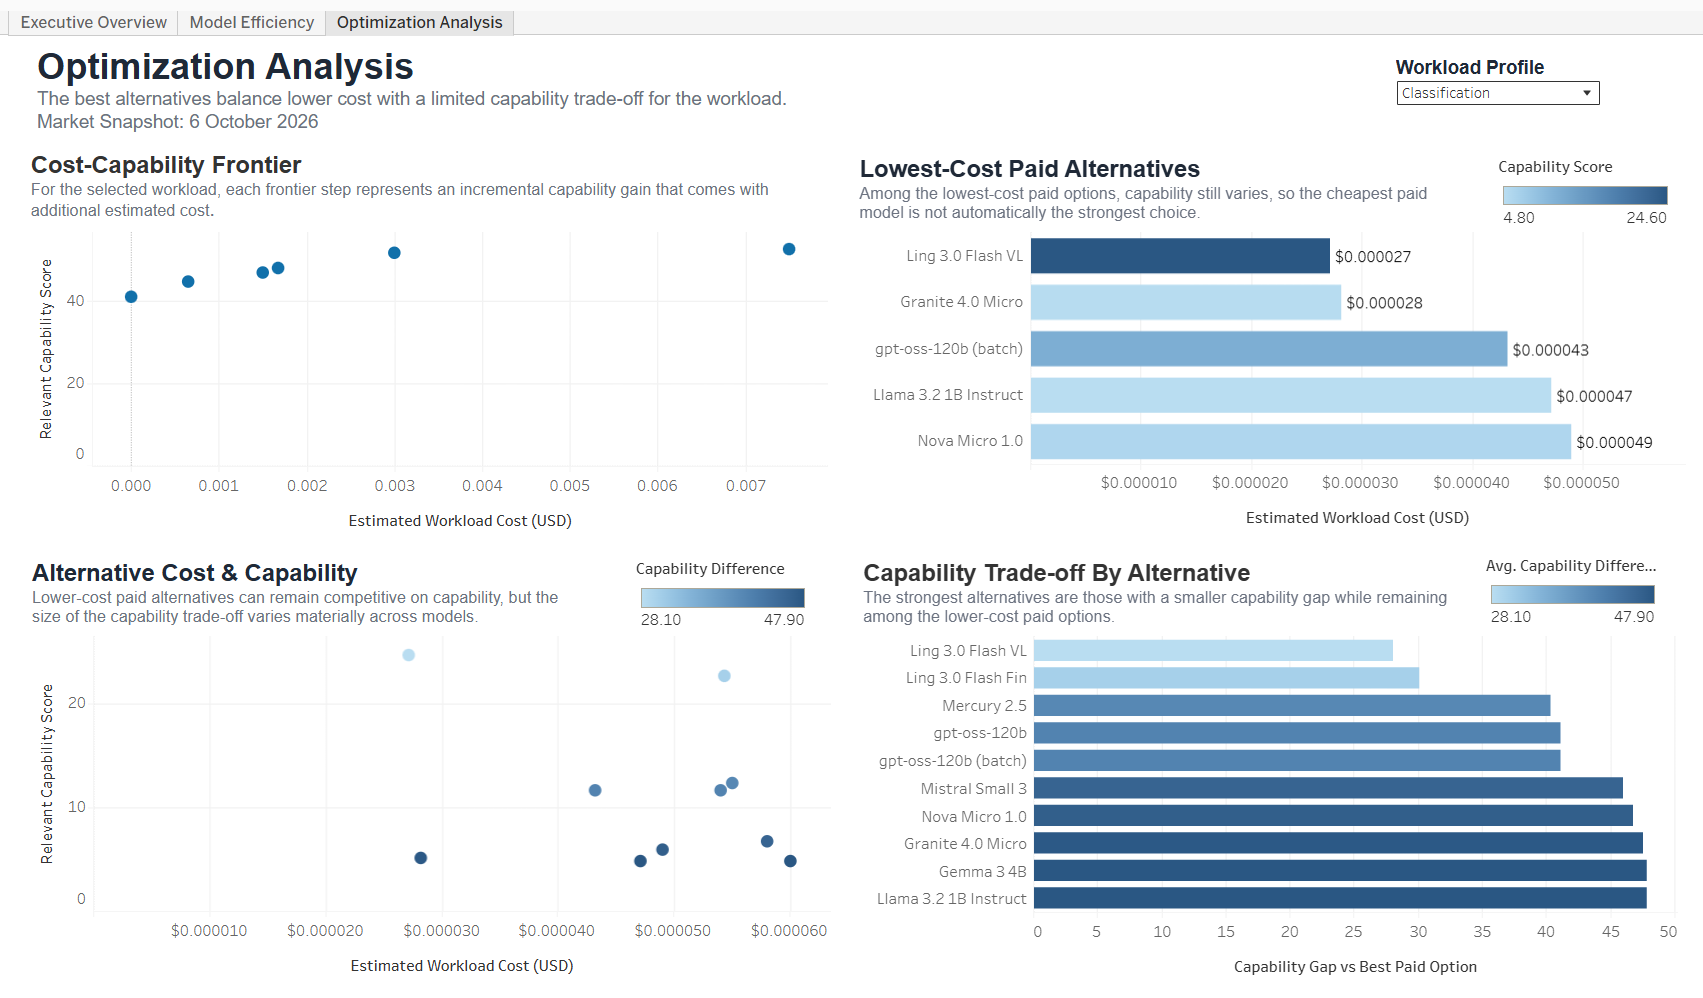

This screenshot's page, from the dashboard's own definition file:
{"tool":"tableau","page":{"name":"Optimization Analysis","canvas":[1366,768],"ordinal":2},"visuals":[{"type":"text","box":[31,6,717,69]},{"type":"parameter","param":"[Parameters].[Parameter 0014484188504223]","box":[1118,15,164,49]},{"type":"worksheet","title":"Cost-Capability Frontier","mark":"Circle","rows":["relevant_capability_score"],"cols":["estimated_workload_cost"],"box":[22,84.5,642.5,314]},{"type":"worksheet","title":"Lowest-Cost Paid Alternatives","mark":"Automatic","rows":["Calculation_0014484202557653"],"cols":["estimated_workload_cost"],"box":[684.5,87,665.5,309.8]},{"type":"legend","title":"Lowest-Cost Paid Alternatives","param":"[federated.1jsorui1emyajk15mfi7206ex7vv].[avg:relevant_capability_score:qk]","box":[1199.9,93.9,140.1,68.3]},{"type":"worksheet","title":"Capability Trade-off By Alternative","mark":"Bar","rows":["Calculation_0014484218527987"],"cols":["capability_difference"],"box":[687.5,409.6,656.5,346.5]},{"type":"worksheet","title":"Alternative Cost & Capability","mark":"Circle","rows":["relevant_capability_score"],"cols":["estimated_workload_cost"],"box":[23,410.4,643.5,344.7]},{"type":"legend","title":"Capability Trade-off By Alternative","param":"[federated.0hecf8u09url0g1aibtwp0grsbcf].[avg:capability_difference:qk]","box":[1189.9,413,140.1,68.3]},{"type":"legend","title":"Alternative Cost & Capability","param":"[federated.0hecf8u09url0g1aibtwp0grsbcf].[sum:capability_difference:qk]","box":[510.4,415.6,140.1,68.3]}]}

Visuals, with their boxes on the page's 1366x768 design canvas (x1, y1, x2, y2). These are canvas units, not pixel positions in the 1703x998 screenshot, which may show the page scaled, cropped or inside an application window:
text: pyautogui.locateOnScreen(31, 6, 748, 75)
parameter: pyautogui.locateOnScreen(1118, 15, 1282, 64)
"Cost-Capability Frontier" worksheet (Circle marks): pyautogui.locateOnScreen(22, 84, 664, 398)
"Lowest-Cost Paid Alternatives" worksheet: pyautogui.locateOnScreen(684, 87, 1350, 397)
"Lowest-Cost Paid Alternatives" legend: pyautogui.locateOnScreen(1200, 94, 1340, 162)
"Capability Trade-off By Alternative" worksheet (Bar marks): pyautogui.locateOnScreen(688, 410, 1344, 756)
"Alternative Cost & Capability" worksheet (Circle marks): pyautogui.locateOnScreen(23, 410, 666, 755)
"Capability Trade-off By Alternative" legend: pyautogui.locateOnScreen(1190, 413, 1330, 481)
"Alternative Cost & Capability" legend: pyautogui.locateOnScreen(510, 416, 650, 484)
